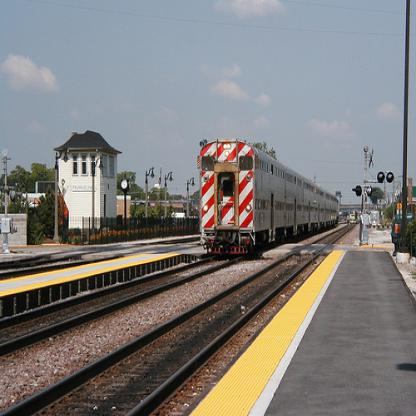train: (200, 140, 338, 256)
